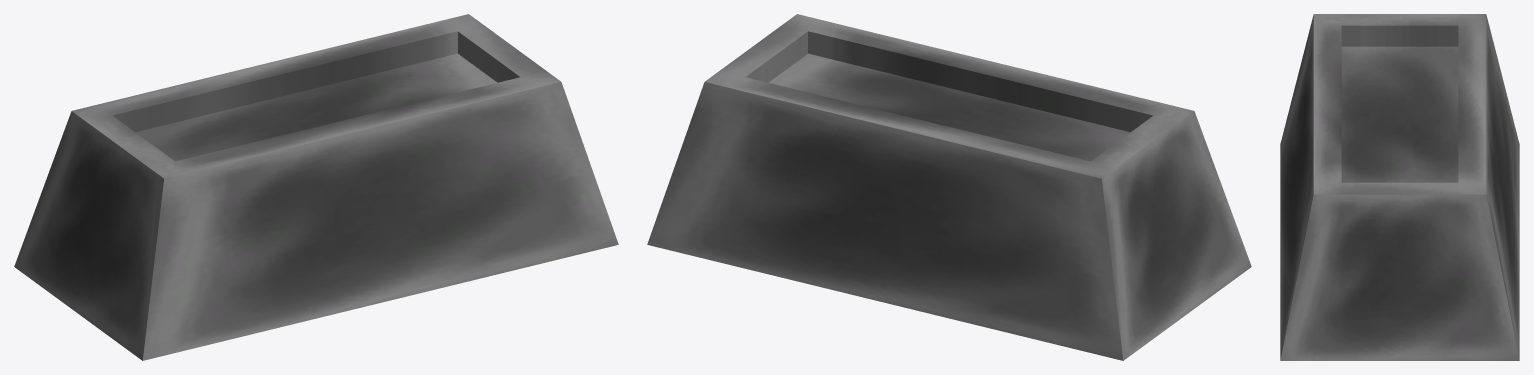
Rendered from TinBarHand.fbx.
The picture shows the model from 3 angles, left to right: view 1: azimuth 30°, elevation 25°; view 2: azimuth 150°, elevation 25°; view 3: azimuth 270°, elevation 25°; orthographic projection. The views are drawn at different scales.
Parts seen in each view (by area): view 1: Bar; view 2: Bar; view 3: Bar.
Part boxes in pixels (left/top/right/bottom): Bar: left=14, top=14, right=618, bottom=360; Bar: left=647, top=14, right=1251, bottom=360; Bar: left=1280, top=14, right=1519, bottom=360.
Size of the model in its own units: 1.17 by 0.3753 by 0.5482.
